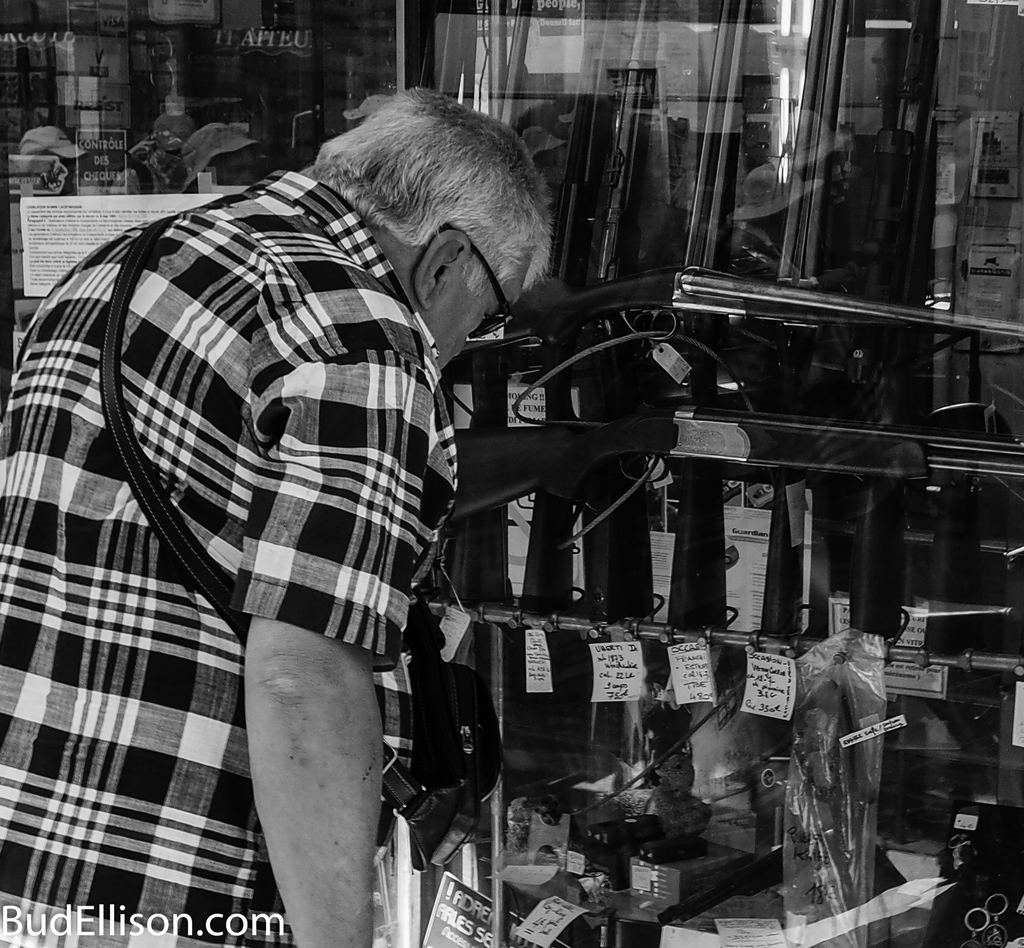Human-face: (424, 252, 532, 371)
